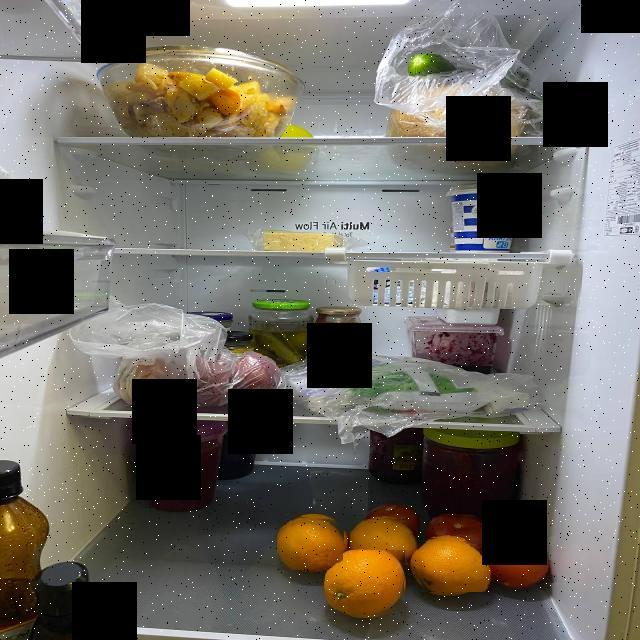Apple: (116, 354, 190, 405), (174, 354, 234, 406), (230, 350, 276, 393)
Cucumber: (408, 54, 458, 79), (500, 68, 538, 88)
Orange: (326, 550, 406, 617), (416, 536, 492, 592), (278, 514, 346, 570), (350, 517, 424, 550)
Tomato: (483, 537, 558, 583), (427, 514, 489, 544), (367, 505, 421, 520)
